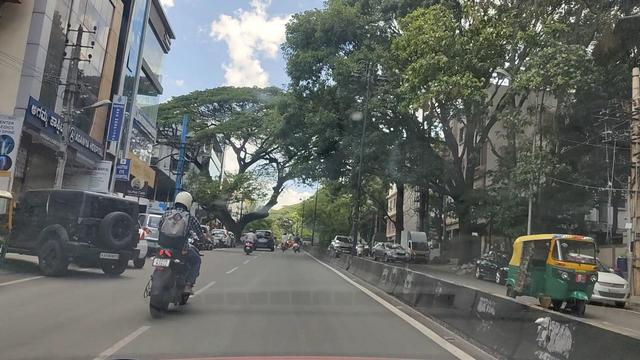LMV: (15, 184, 138, 284), (162, 179, 212, 327)
